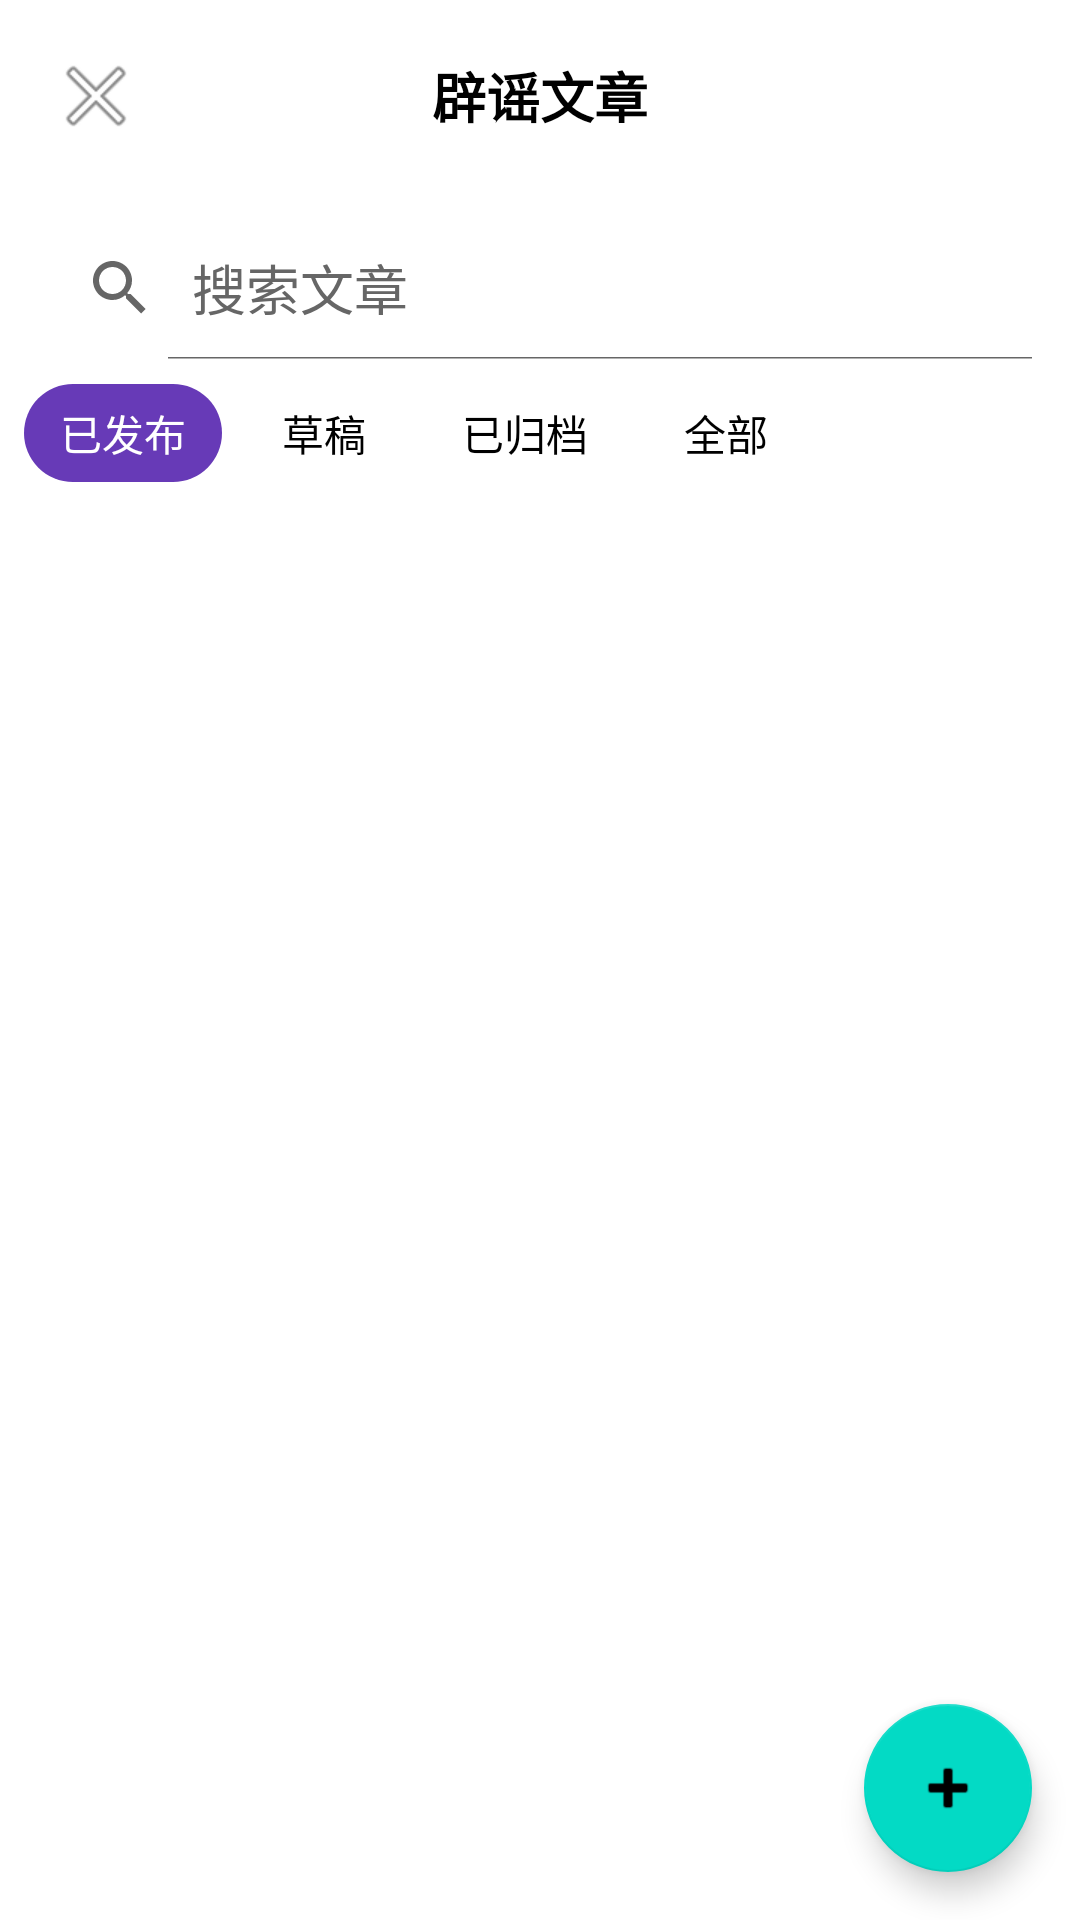

Icon bounding boxes for this 1080w x 1920h phone screenshot, format (x1, y1, x2, y2):
创建新文章: (864, 1704, 1032, 1872)
